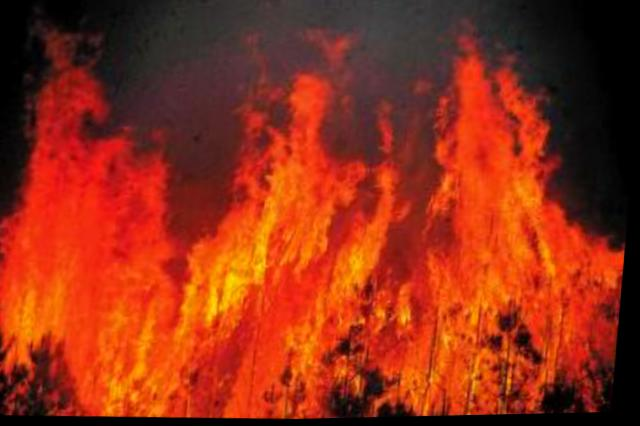fire: (0, 16, 638, 425)
